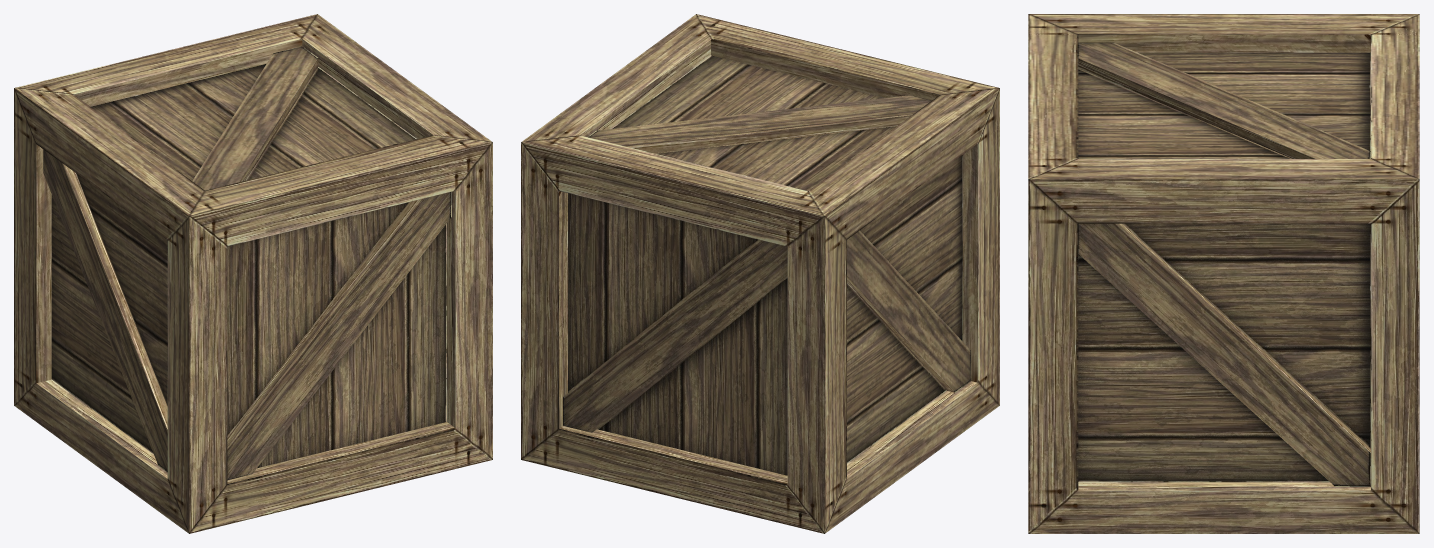
Rendered from caja 4.fbx.
3 views of the same model, side by side, from view 1: azimuth 30°, elevation 25°; view 2: azimuth 150°, elevation 25°; view 3: azimuth 270°, elevation 25° (orthographic). The views are drawn at different scales.
Visible parts, largest first — view 1: pCube10; view 2: pCube10; view 3: pCube10.
Boxes of the visible parts, x1,y1,x2,y2 form: pCube10: (14,14,492,533); pCube10: (521,14,999,533); pCube10: (1028,14,1419,533).
Bounding box in the file's own units: 4 × 4 × 4.
1 material, 1 textured.
